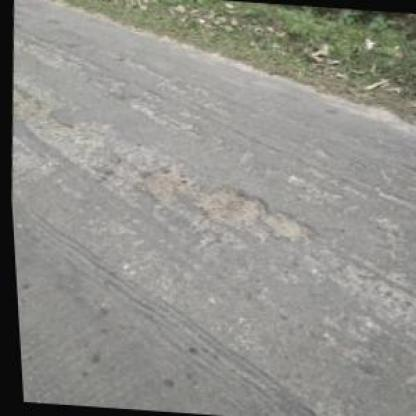pothole: (188, 183, 272, 230), (133, 164, 198, 206), (259, 211, 311, 240), (11, 82, 46, 121)
